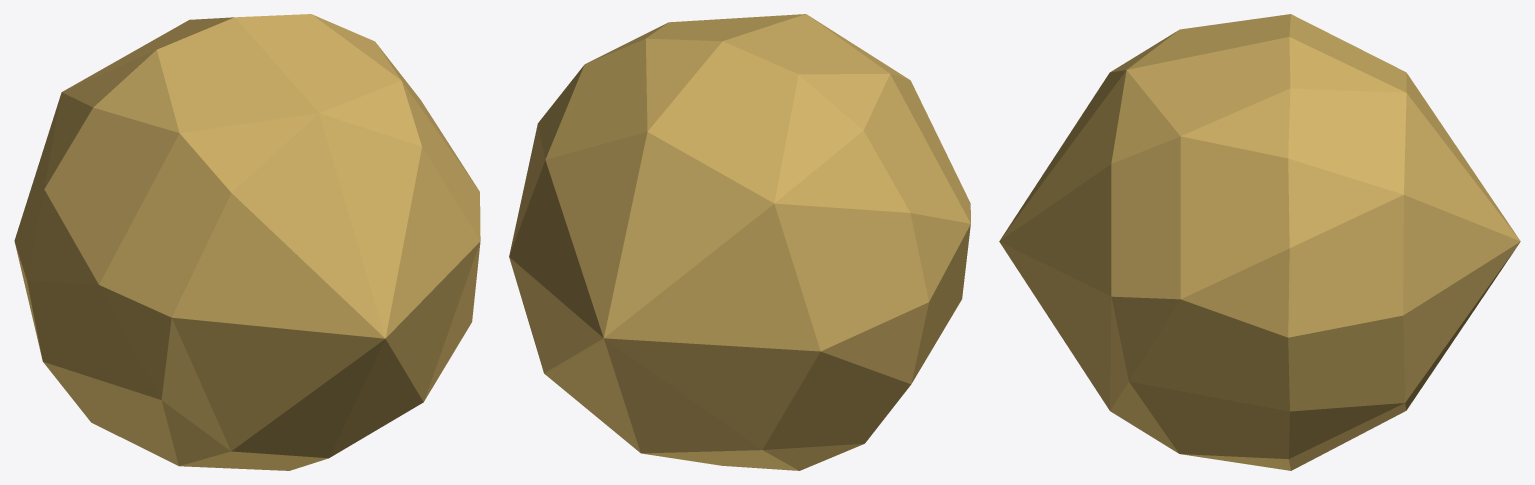
File: Onion.fbx
3 views of the same model, side by side, from view 1: azimuth 30°, elevation 25°; view 2: azimuth 150°, elevation 25°; view 3: azimuth 270°, elevation 25° (orthographic). The views are drawn at different scales.
Visible parts, largest first — view 1: Onion; view 2: Onion; view 3: Onion.
Part boxes in pixels (bbox=[...]): Onion: bbox=[14, 14, 480, 470]; Onion: bbox=[509, 14, 970, 470]; Onion: bbox=[999, 14, 1520, 470].
Bounding box in the file's own units: 7.8 × 7.75 × 8.87.
